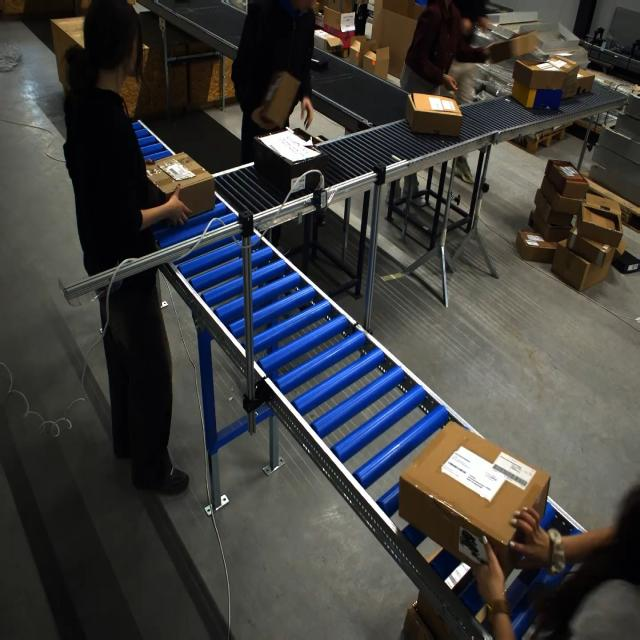box: (399, 430, 547, 567), (252, 127, 323, 196), (146, 153, 214, 220), (405, 92, 460, 136), (260, 70, 301, 128)
product: (312, 56, 329, 71)
